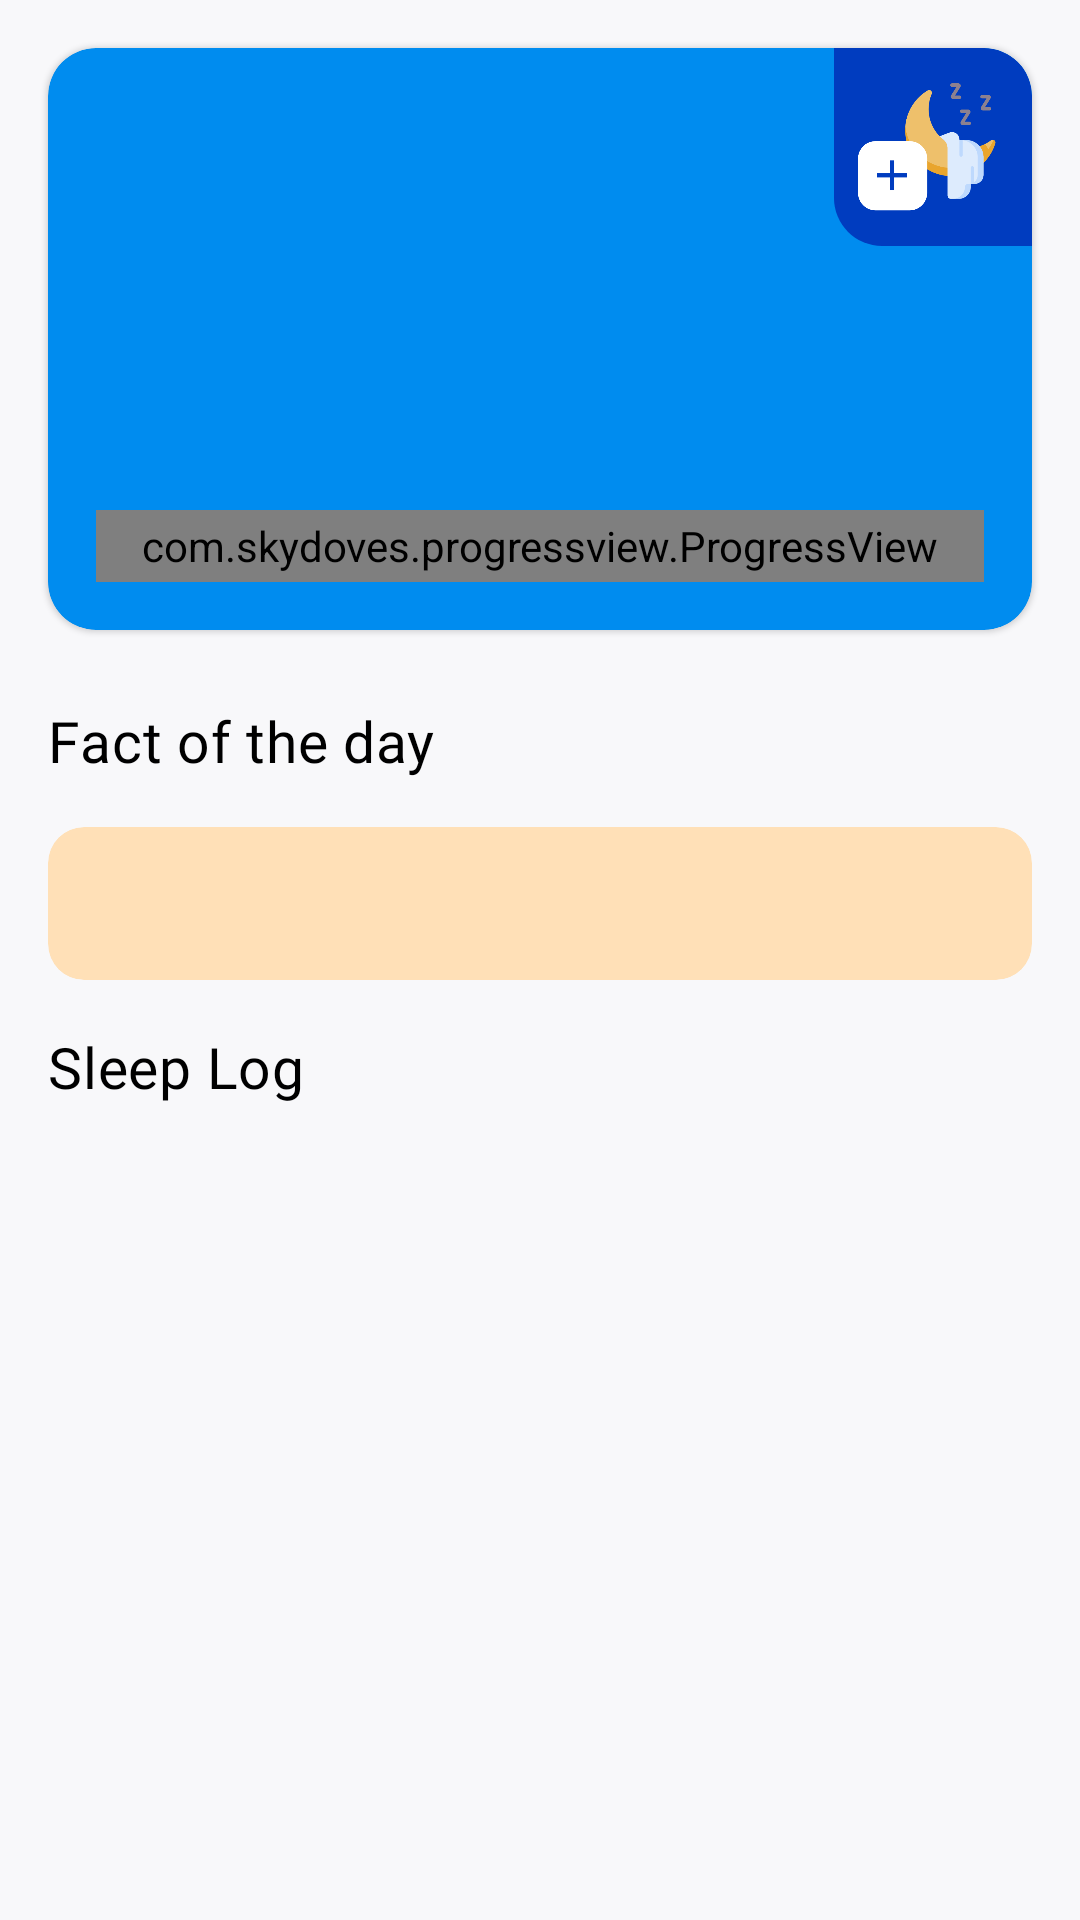

Icon click points for this 1080px×1920px phone screenshot, format [x,y]:
add sleep: [927,147]
